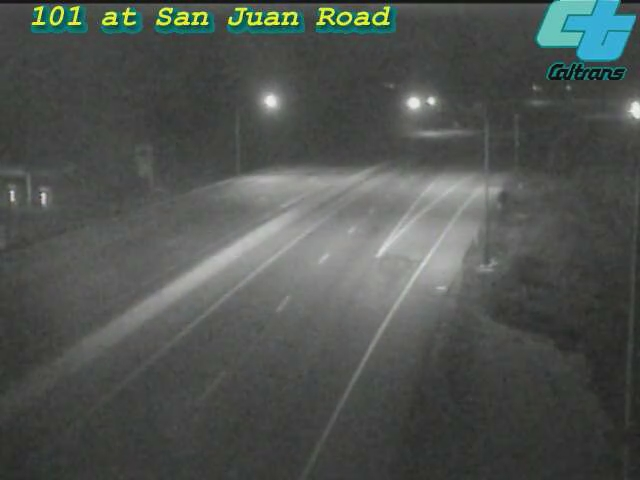vehicle: (6, 237, 86, 317), (611, 84, 640, 134)
